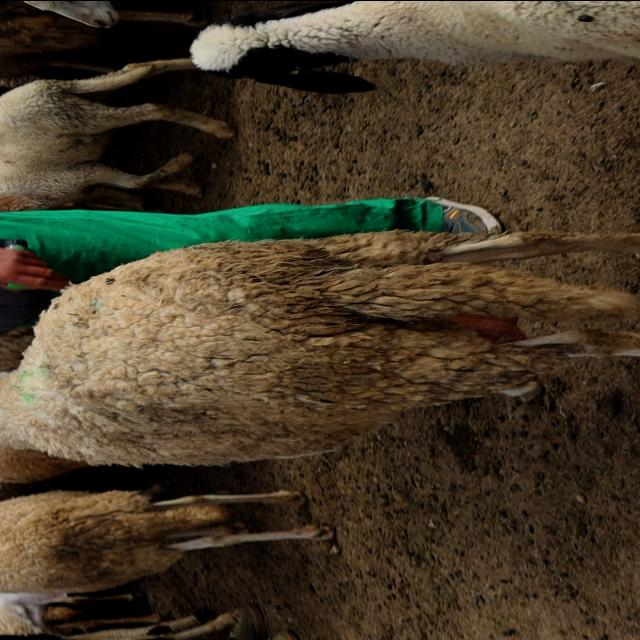Score_2: (0, 229, 639, 466)
